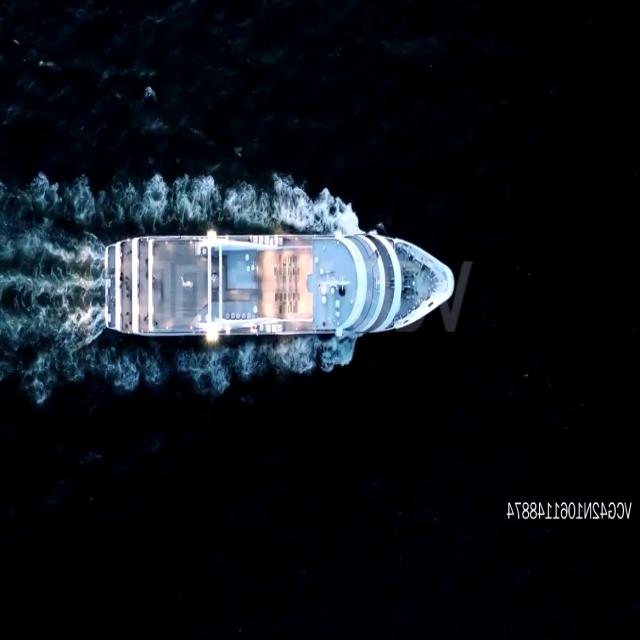passenger ship: (105, 225, 458, 345)
